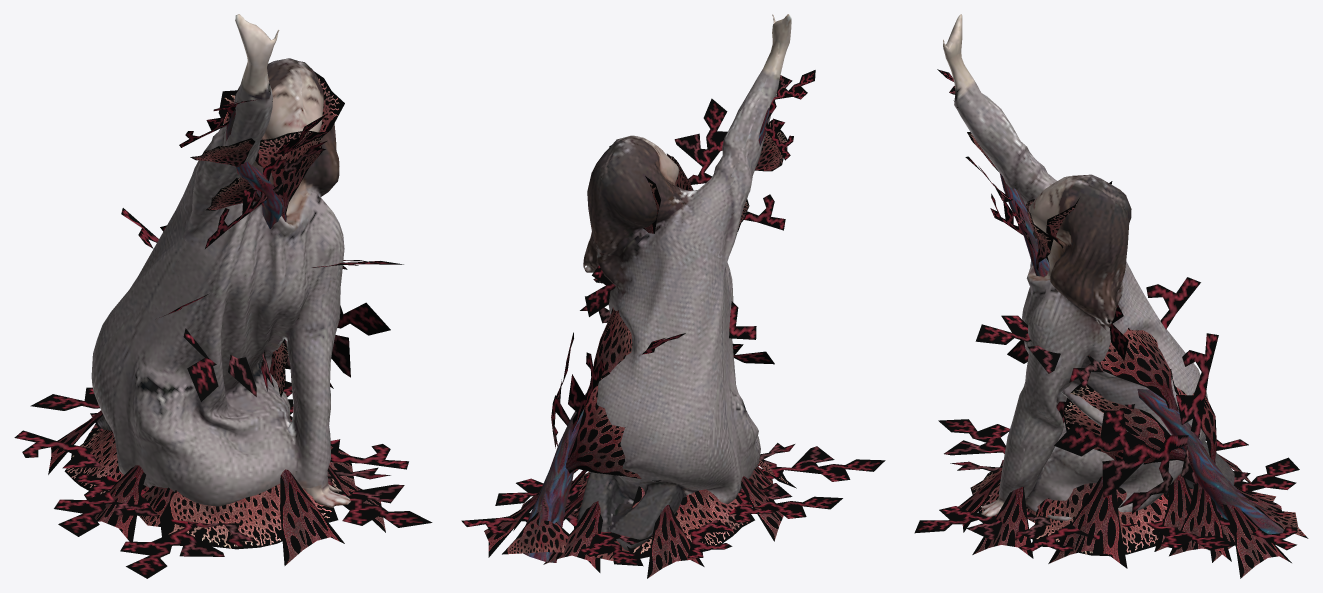
Rendered from Deadpeople0.fbx.
3 renders of one model, left to right at view 1: azimuth 30°, elevation 25°; view 2: azimuth 150°, elevation 25°; view 3: azimuth 270°, elevation 25°, orthographic. The views are drawn at different scales.
Parts seen in each view (by area): view 1: LODGroup_1_MainMesh_2_SubMesh_1, LODGroup_1_MainMesh_1_SubMesh_2, LODGroup_1_MainMesh_1_SubMesh_1; view 2: LODGroup_1_MainMesh_2_SubMesh_1, LODGroup_1_MainMesh_1_SubMesh_2, LODGroup_1_MainMesh_1_SubMesh_1; view 3: LODGroup_1_MainMesh_1_SubMesh_2, LODGroup_1_MainMesh_2_SubMesh_1, LODGroup_1_MainMesh_1_SubMesh_1.
Boxes of the visible parts, <box> form: LODGroup_1_MainMesh_2_SubMesh_1: <box>91,14,350,507</box>; LODGroup_1_MainMesh_1_SubMesh_2: <box>14,71,432,578</box>; LODGroup_1_MainMesh_1_SubMesh_1: <box>226,109,286,228</box>; LODGroup_1_MainMesh_2_SubMesh_1: <box>577,14,791,550</box>; LODGroup_1_MainMesh_1_SubMesh_2: <box>461,70,885,578</box>; LODGroup_1_MainMesh_1_SubMesh_1: <box>523,108,769,562</box>; LODGroup_1_MainMesh_1_SubMesh_2: <box>914,69,1308,578</box>; LODGroup_1_MainMesh_2_SubMesh_1: <box>943,14,1234,520</box>; LODGroup_1_MainMesh_1_SubMesh_1: <box>999,173,1290,539</box>.
Size of the model in its own units: 81.35 by 134 by 99.6.
